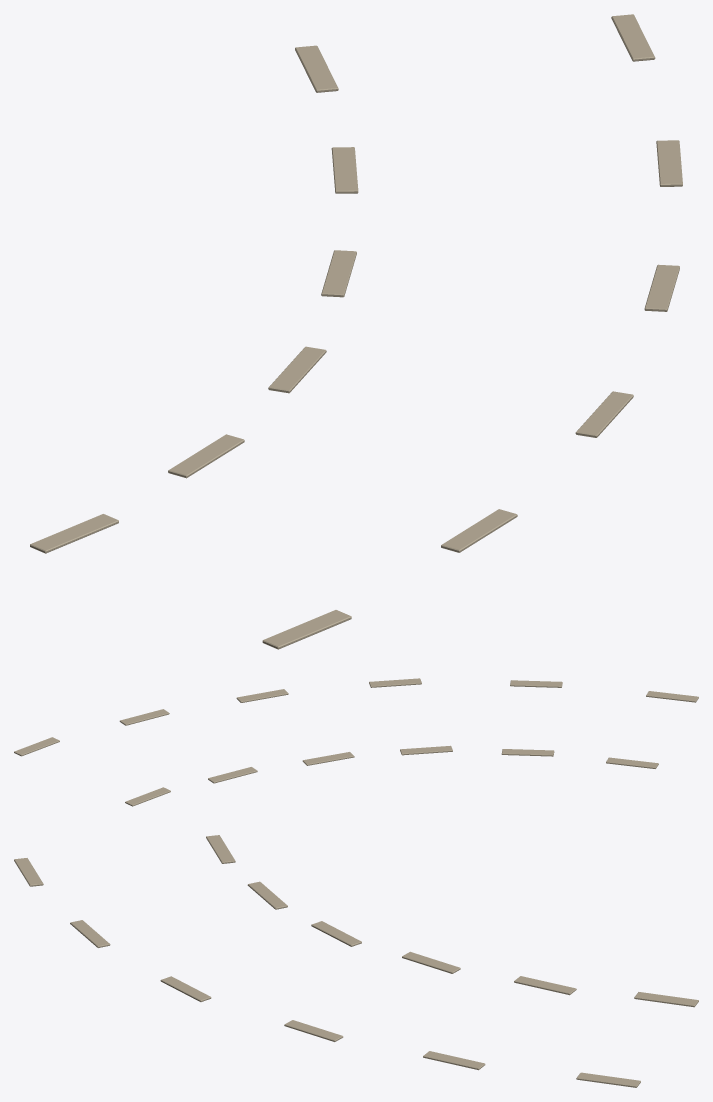
The model's file is Sector6_SandstoneTrim_1.fbx.
The picture shows the model from 3 angles, top to bottom: view 1: azimuth 30°, elevation 25°; view 2: azimuth 150°, elevation 25°; view 3: azimuth 270°, elevation 25°; orthographic projection. The views are drawn at different scales.
Visible parts, largest first — view 1: Sector6_SandstoneTrim_1; view 2: Sector6_SandstoneTrim_1; view 3: Sector6_SandstoneTrim_1.
Boxes of the visible parts, bbox=[...] form: Sector6_SandstoneTrim_1: bbox=[30, 14, 682, 649]; Sector6_SandstoneTrim_1: bbox=[14, 678, 698, 806]; Sector6_SandstoneTrim_1: bbox=[14, 835, 698, 1087].
Size of the model in its own units: 26830 by 1468 by 27471.
